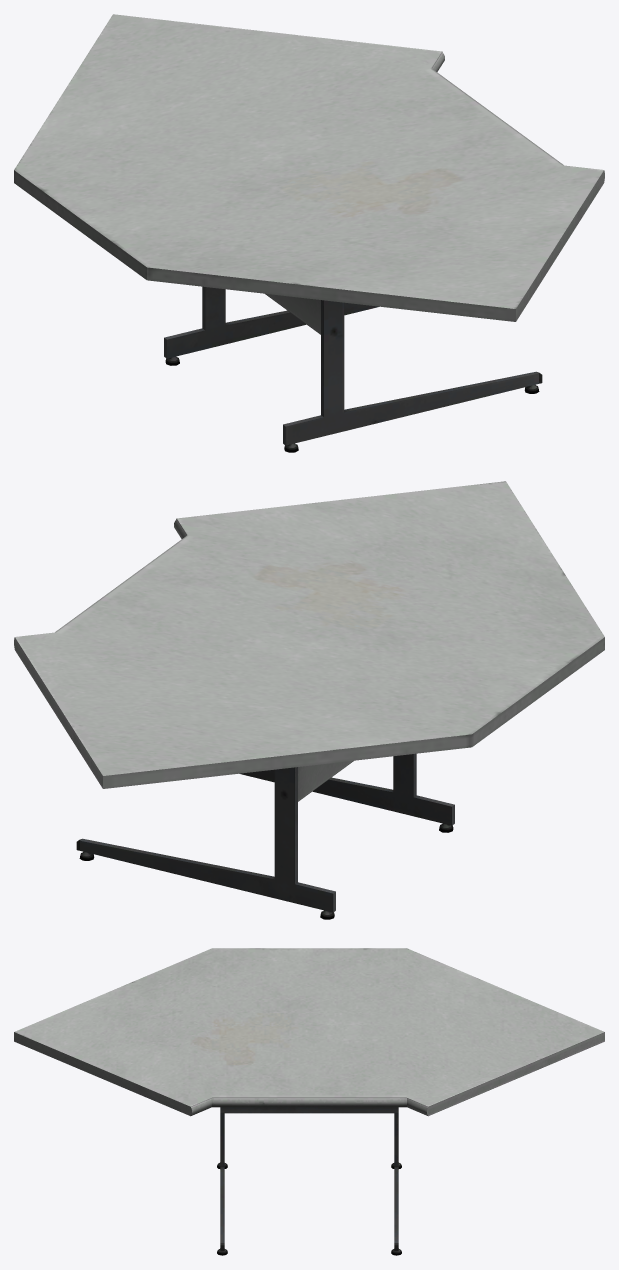
The model's file is lab_desk03.glb.
The picture shows the model from 3 angles, top to bottom: view 1: azimuth 30°, elevation 25°; view 2: azimuth 150°, elevation 25°; view 3: azimuth 270°, elevation 25°; orthographic projection. The views are drawn at different scales.
Parts seen in each view (by area): view 1: lab_desk03_parts\obj\lab_desk03.obj; view 2: lab_desk03_parts\obj\lab_desk03.obj; view 3: lab_desk03_parts\obj\lab_desk03.obj.
Boxes of the visible parts, bbox=[...] form: lab_desk03_parts\obj\lab_desk03.obj: bbox=[14, 14, 604, 452]; lab_desk03_parts\obj\lab_desk03.obj: bbox=[14, 481, 604, 919]; lab_desk03_parts\obj\lab_desk03.obj: bbox=[14, 948, 604, 1255].
Bounding box in the file's own units: 1.48 × 0.7173 × 2.33.
Materials: 1 (1 with a texture image).
